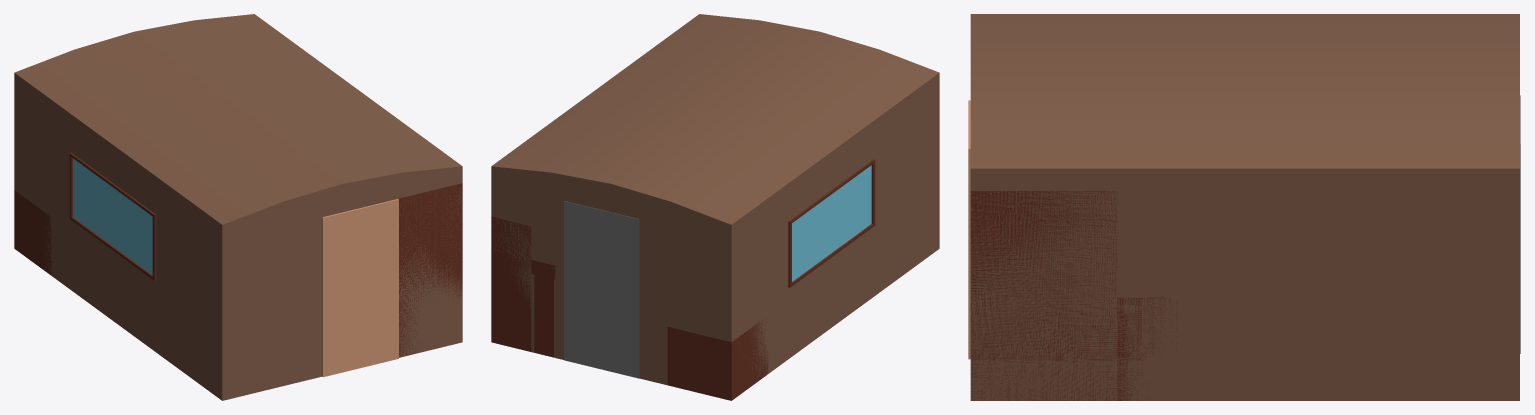
File: GreyBox.fbx
3 renders of one model, left to right at view 1: azimuth 30°, elevation 25°; view 2: azimuth 150°, elevation 25°; view 3: azimuth 270°, elevation 25°, orthographic. The views are drawn at different scales.
Parts seen in each view (by area): view 1: Vagon, LightDoor(Right), Cupboard, Table3; view 2: Vagon, HeavyDoor(Left), Table3, StandForHerbs, MasterTable; view 3: Vagon, Cupboard, StandForTitan, LightDoor(Right).
Part boxes in pixels (left/top/right/bottom): Vagon: left=14, top=14, right=462, bottom=400; LightDoor(Right): left=322, top=199, right=398, bottom=377; Cupboard: left=398, top=183, right=462, bottom=357; Table3: left=14, top=190, right=51, bottom=275; Vagon: left=491, top=14, right=939, bottom=385; HeavyDoor(Left): left=564, top=201, right=639, bottom=378; Table3: left=667, top=320, right=768, bottom=400; StandForHerbs: left=491, top=216, right=531, bottom=351; MasterTable: left=531, top=260, right=555, bottom=357; Vagon: left=970, top=14, right=1519, bottom=400; Cupboard: left=970, top=191, right=1117, bottom=400; StandForTitan: left=1117, top=297, right=1178, bottom=400; LightDoor(Right): left=968, top=100, right=970, bottom=359.
Size of the model in its own units: 302 by 224 by 453.
